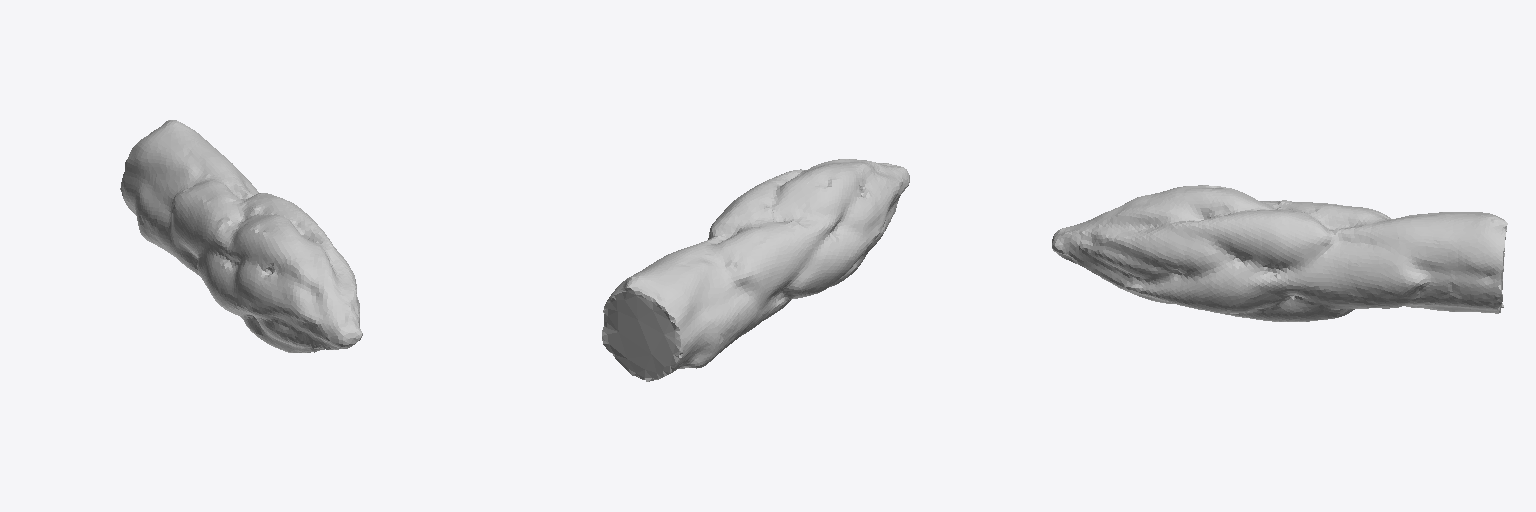
The model's file is spags 1.obj.
3 renders of one model, left to right at view 1: azimuth 30°, elevation 25°; view 2: azimuth 150°, elevation 25°; view 3: azimuth 270°, elevation 25°, orthographic.
Visible parts, largest first — view 1: Object.1; view 2: Object.1; view 3: Object.1.
Part boxes in pixels (bbox=[...]): Object.1: bbox=[120, 120, 362, 352]; Object.1: bbox=[602, 159, 909, 381]; Object.1: bbox=[1052, 185, 1507, 321].
Size of the model in its own units: 12.94 by 12.27 by 42.37.